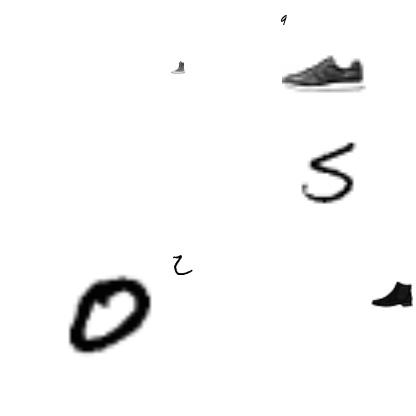0: (50, 256, 162, 368)
2: (165, 252, 193, 280)
5: (287, 131, 371, 215)
9: (277, 12, 291, 26)
Ankle_boot: (371, 273, 413, 315), (171, 60, 185, 74)
Sneaker: (282, 32, 366, 116)
T-shirt/top: (123, 281, 137, 295)
